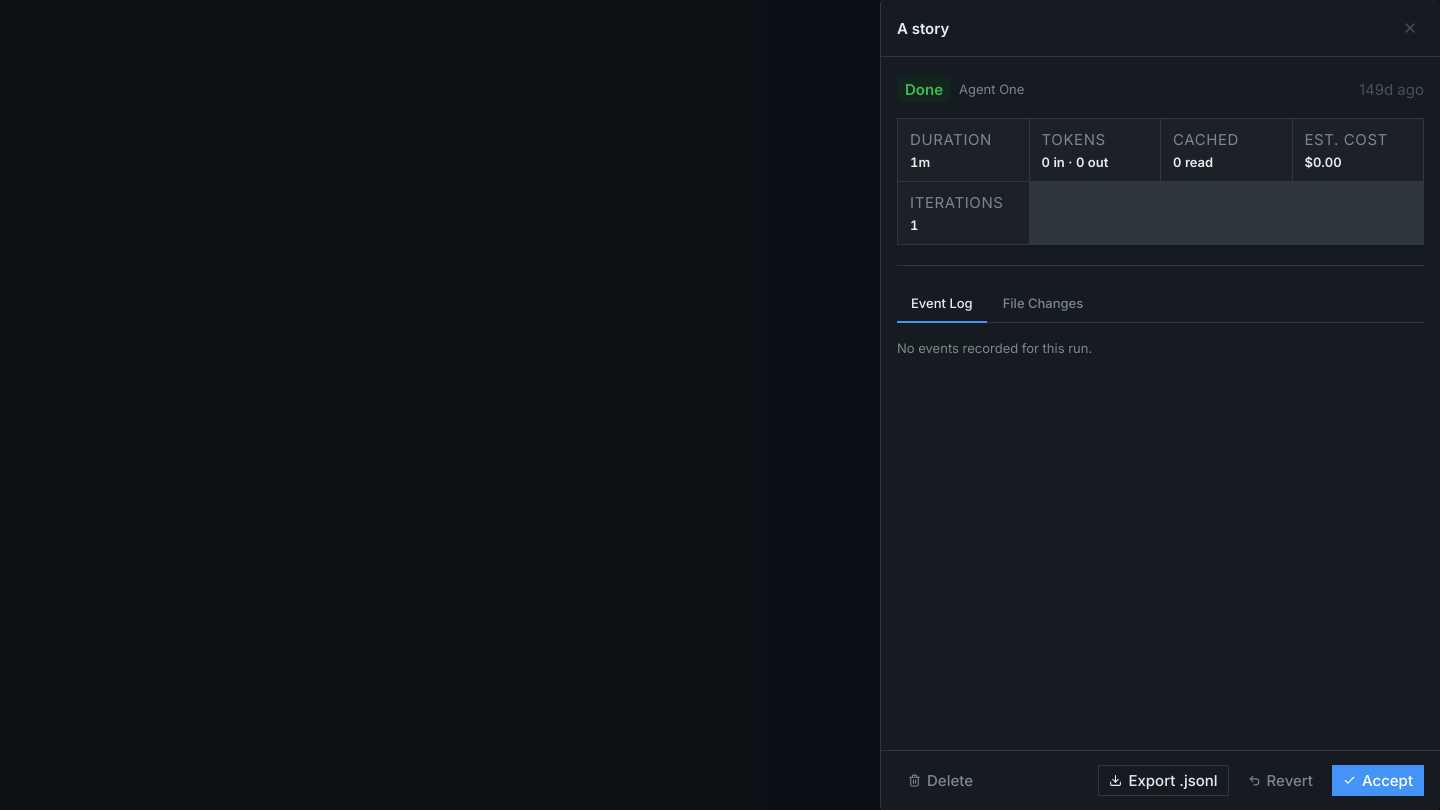
Test: RunDetailPanel run isolation › names the branch an isolated run's changes are parked on
Step 1. Click the tab "File Changes" → (1043,304), box [989, 286, 1097, 323]
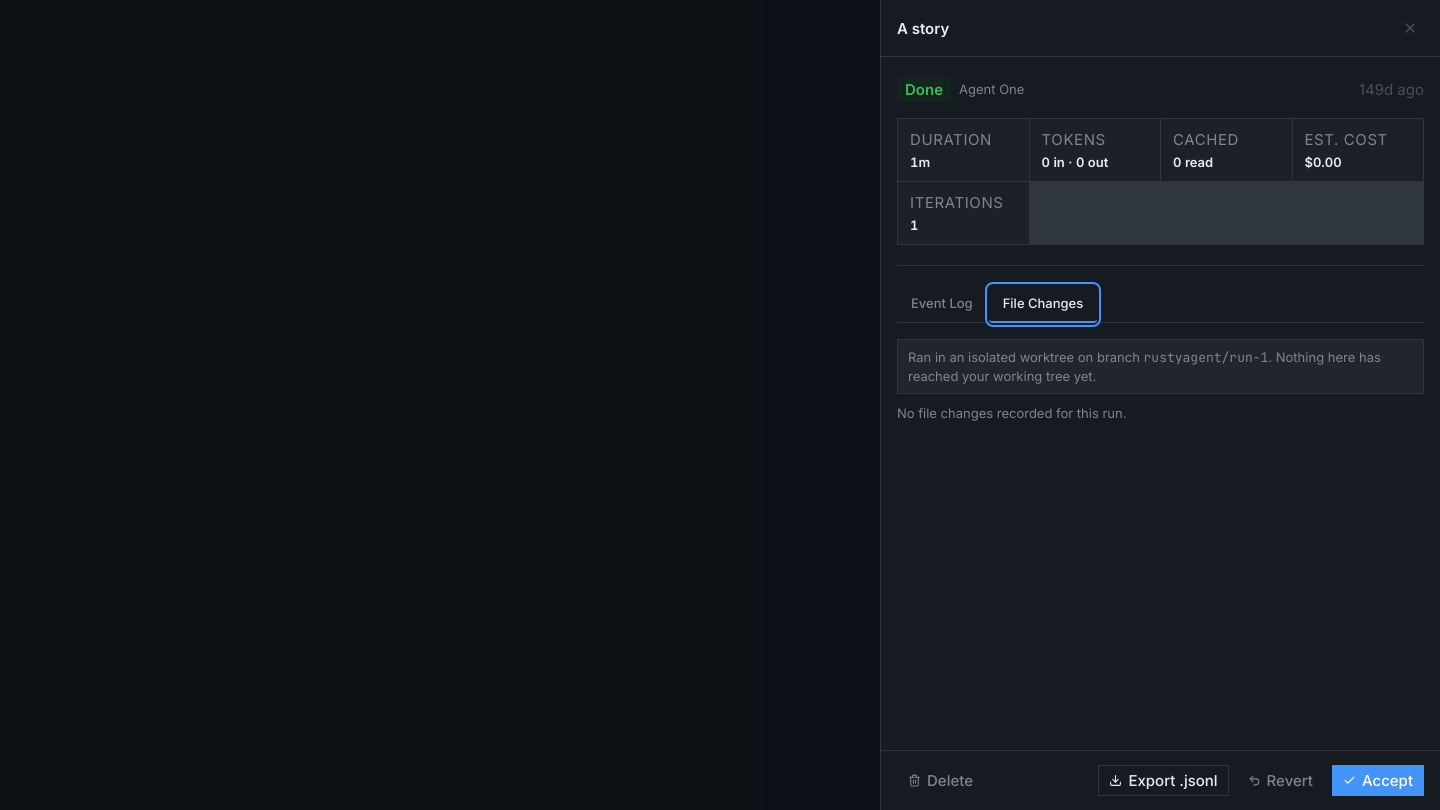
Now the text "isolated worktree on branch" shows "rustyagent/run-1", box [1144, 349, 1268, 366]
Now the text "isolated worktree on branch" shows "Nothing here has reached your working tree yet", box [908, 349, 1381, 384]
